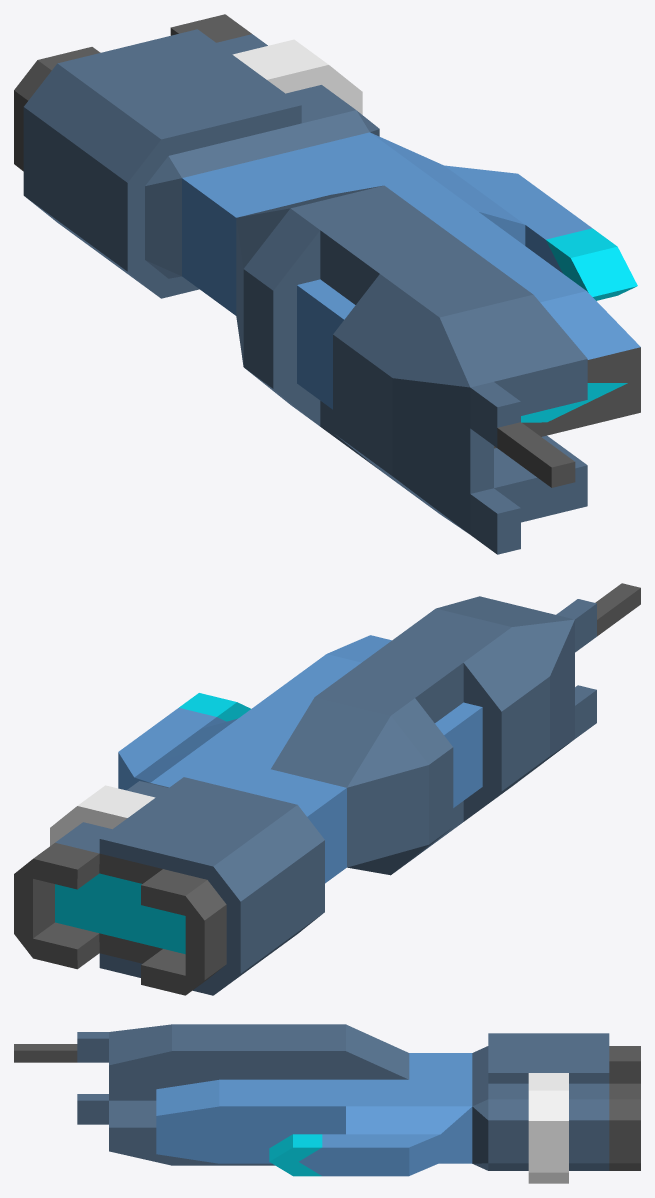
File: block_frigate_light.fbx
The picture shows the model from 3 angles, top to bottom: view 1: azimuth 30°, elevation 25°; view 2: azimuth 150°, elevation 25°; view 3: azimuth 270°, elevation 25°; orthographic projection. The views are drawn at different scales.
Parts seen in each view (by area): view 1: block_frigate_light; view 2: block_frigate_light; view 3: block_frigate_light.
Part boxes in pixels (x1,y1,x2,y2): block_frigate_light: (14,14,640,554); block_frigate_light: (14,583,640,995); block_frigate_light: (14,1024,640,1183).
Size of the model in its own units: 18.9 by 10.8 by 53.55.
Materials: 1 (1 with a texture image).
